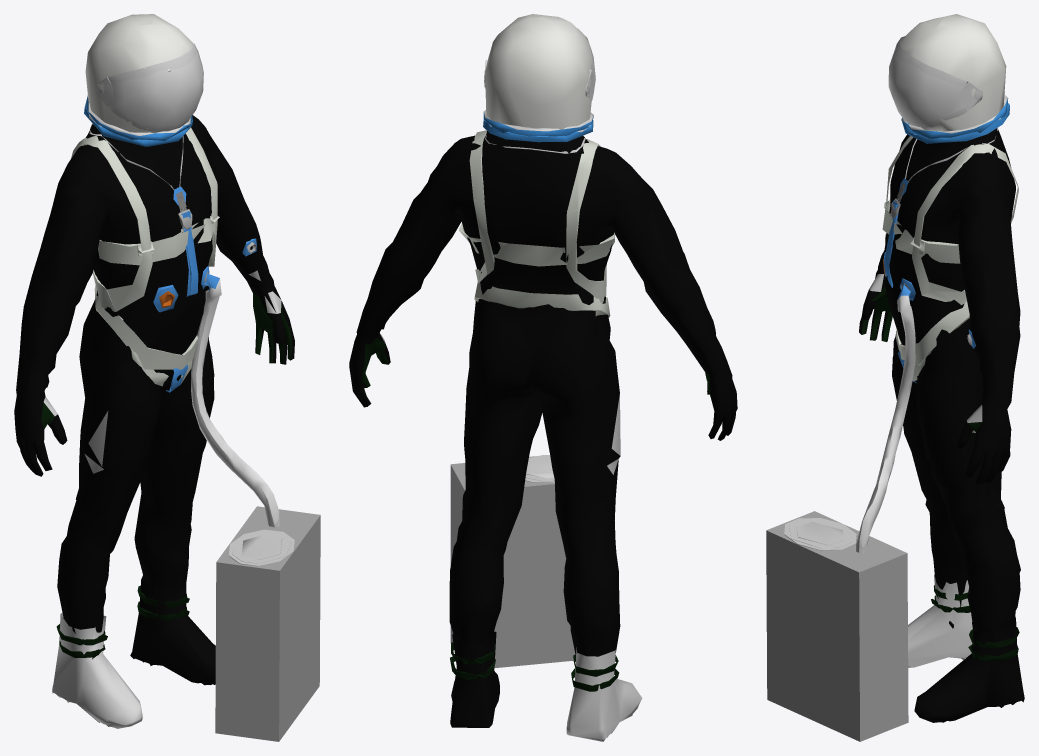
Rendered from gemini_suit_lod2.glb.
The picture shows the model from 3 angles, left to right: view 1: azimuth 30°, elevation 25°; view 2: azimuth 150°, elevation 25°; view 3: azimuth 270°, elevation 25°; orthographic projection. The views are drawn at different scales.
Parts seen in each view (by area): view 1: gemini_suit_lod2; view 2: gemini_suit_lod2; view 3: gemini_suit_lod2.
Part boxes in pixels (left/top/right/bottom): gemini_suit_lod2: left=14, top=14, right=320, bottom=741; gemini_suit_lod2: left=349, top=14, right=737, bottom=741; gemini_suit_lod2: left=766, top=14, right=1024, bottom=741.
Bounding box in the file's own units: 0.9965 × 2 × 0.7074.
